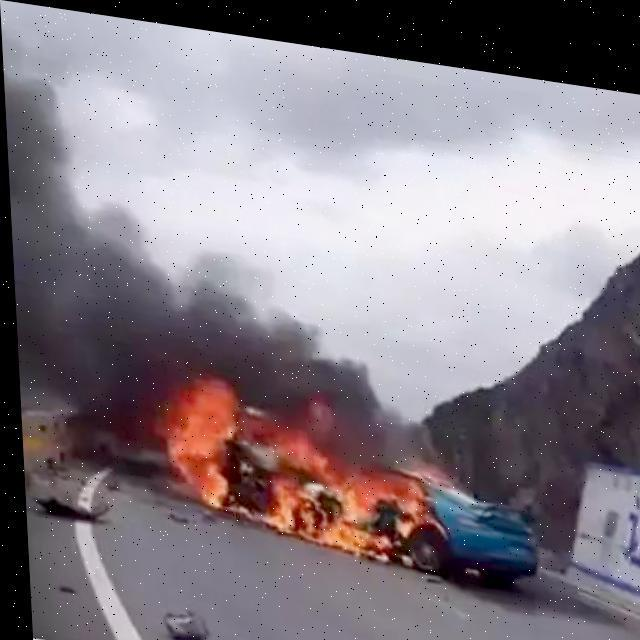Fire: (158, 360, 458, 569)
